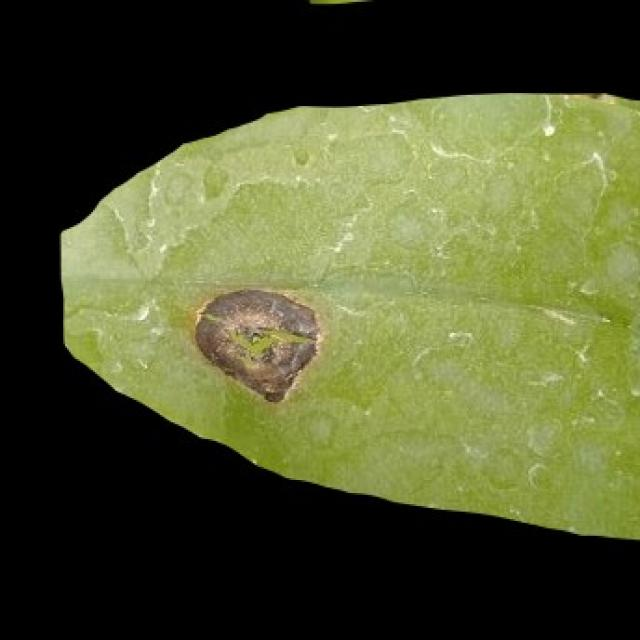mite: (188, 268, 638, 406), (294, 0, 638, 13), (227, 320, 309, 361), (294, 0, 394, 22), (292, 0, 445, 11), (301, 0, 380, 7)
sunburn: (190, 285, 324, 406)
